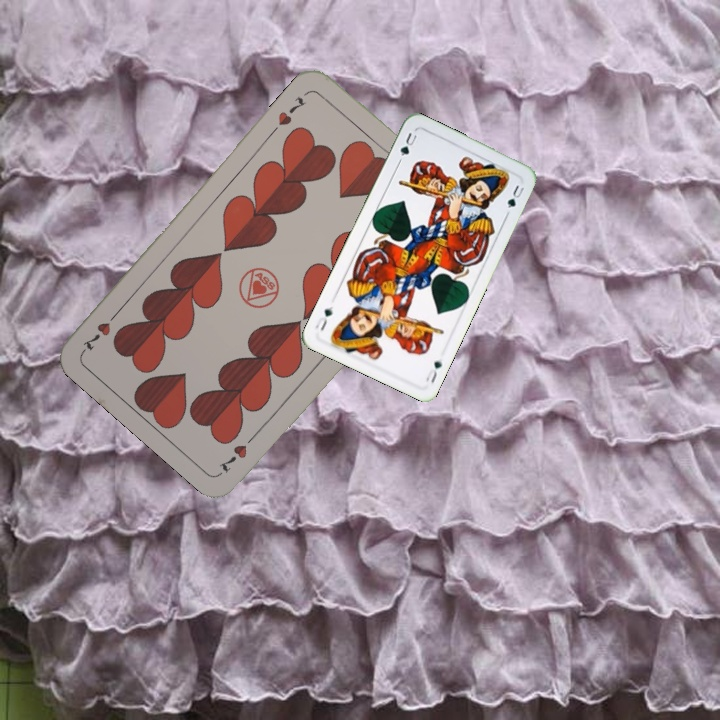GU: (396, 128, 420, 160), (421, 357, 445, 386)
H7: (215, 428, 260, 477), (274, 92, 308, 128)
